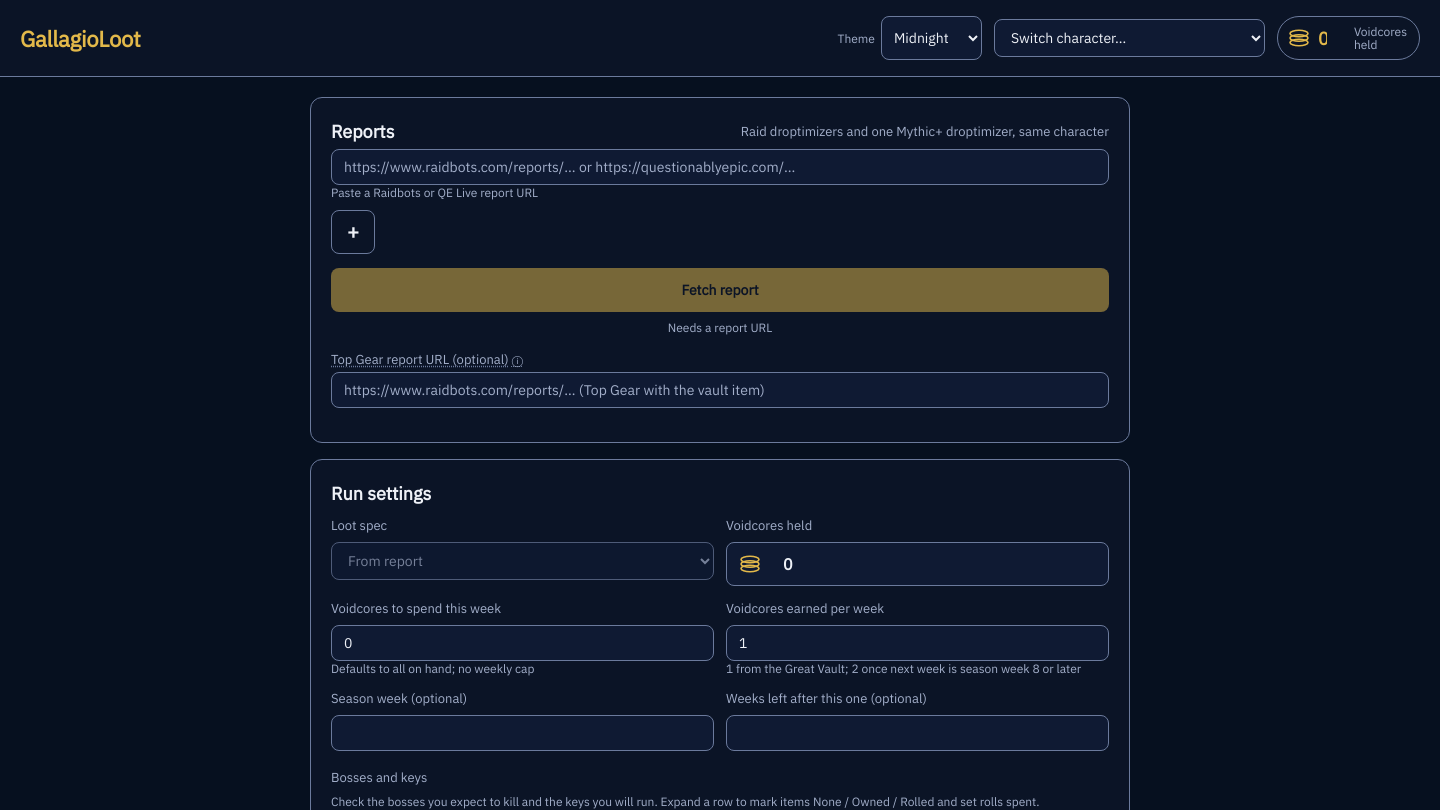
Test: stored knockout state that references the curio › loads without crashing, doesn't touch the boss that really drops the tier piece, and is dropped on the next save
Replace the text in the field with id "report-url" with "https://www.raidbots.com/simbot/report/6PTZ7TjgU8PdxJhZ97bMUa" at {"x": 720, "y": 167}, box [331, 149, 1109, 185]
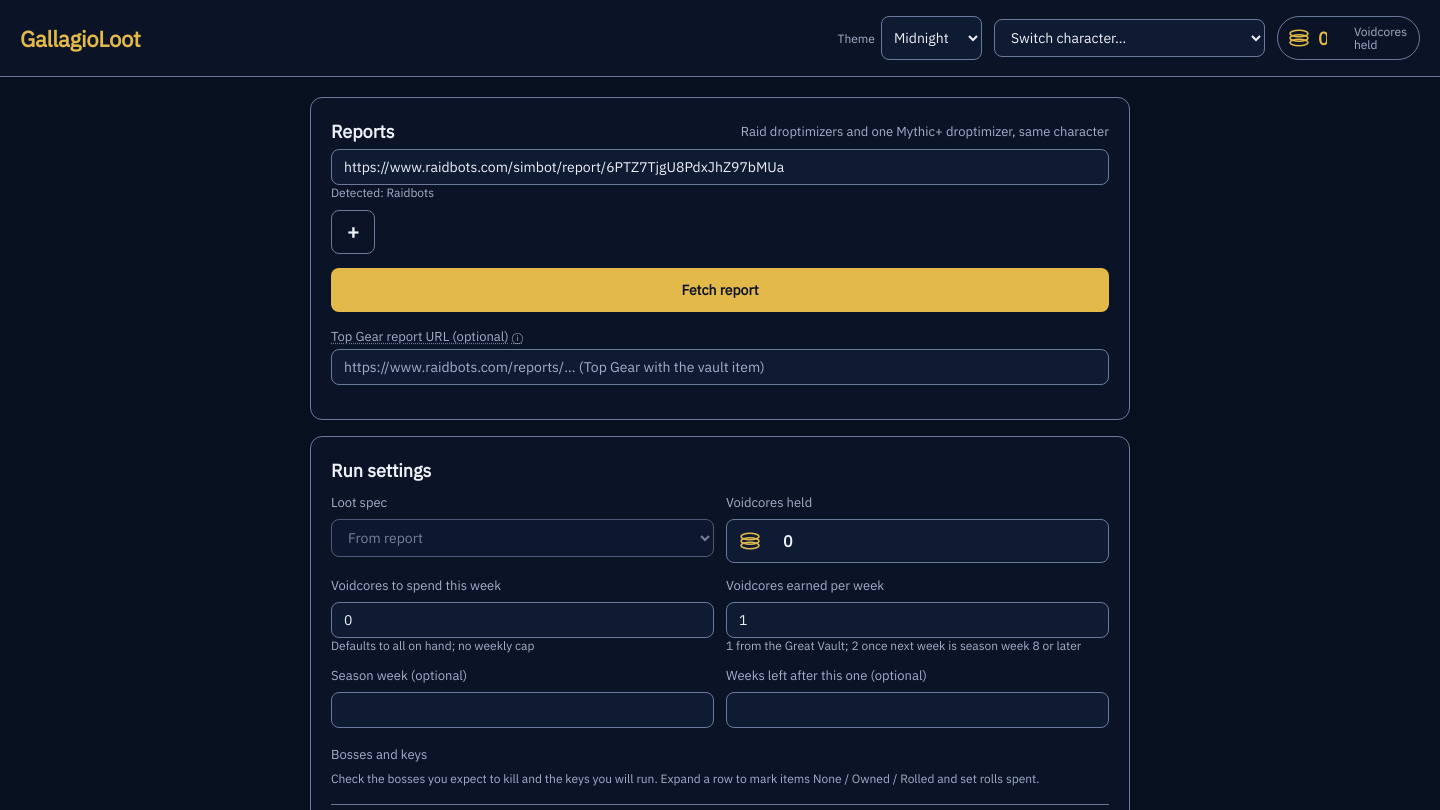
Click the button "Fetch report" at {"x": 720, "y": 290}, box [331, 268, 1109, 312]
(page scrolled)
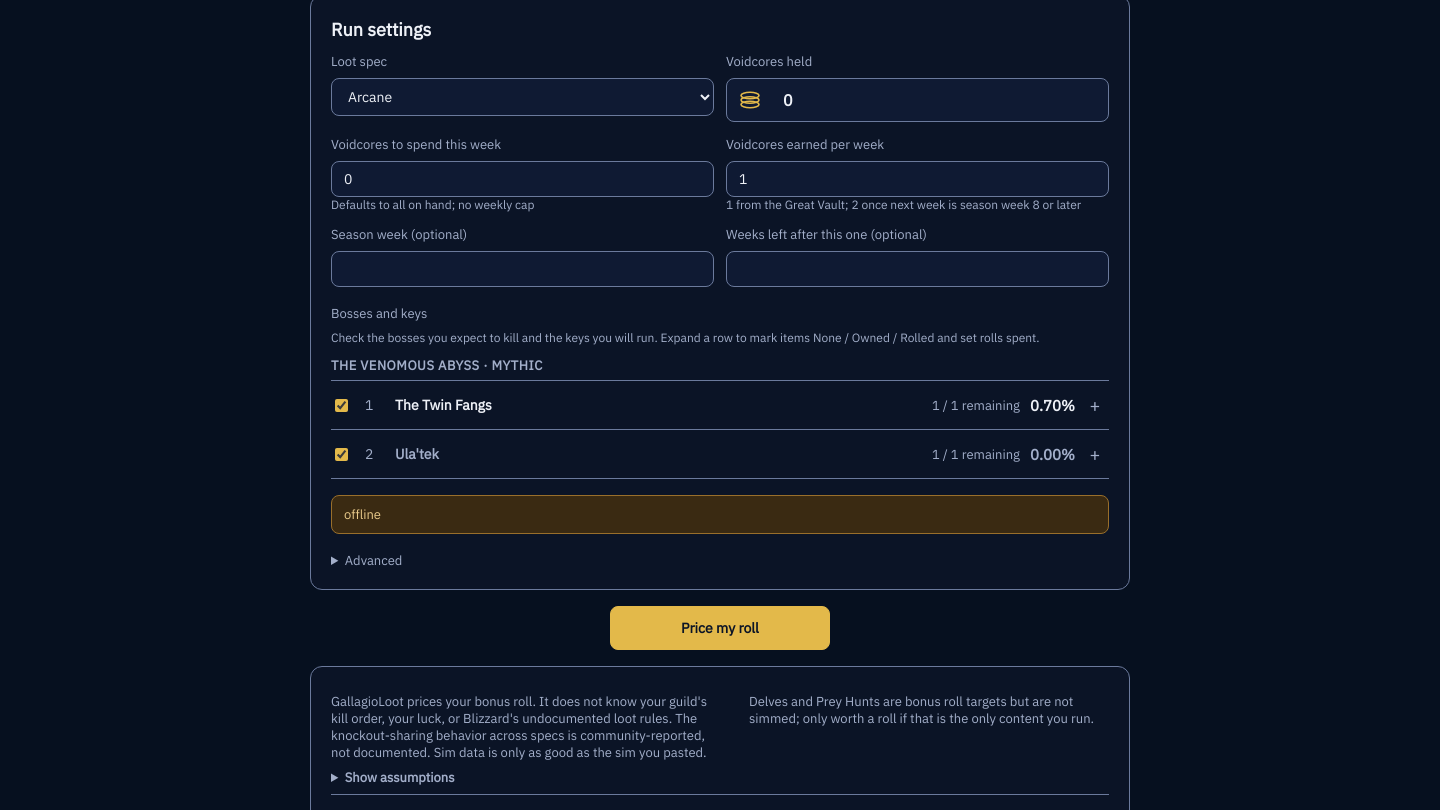
Now the 1st element with class "boss-row__remaining" shows "1 / 1", box [932, 396, 1020, 414]
